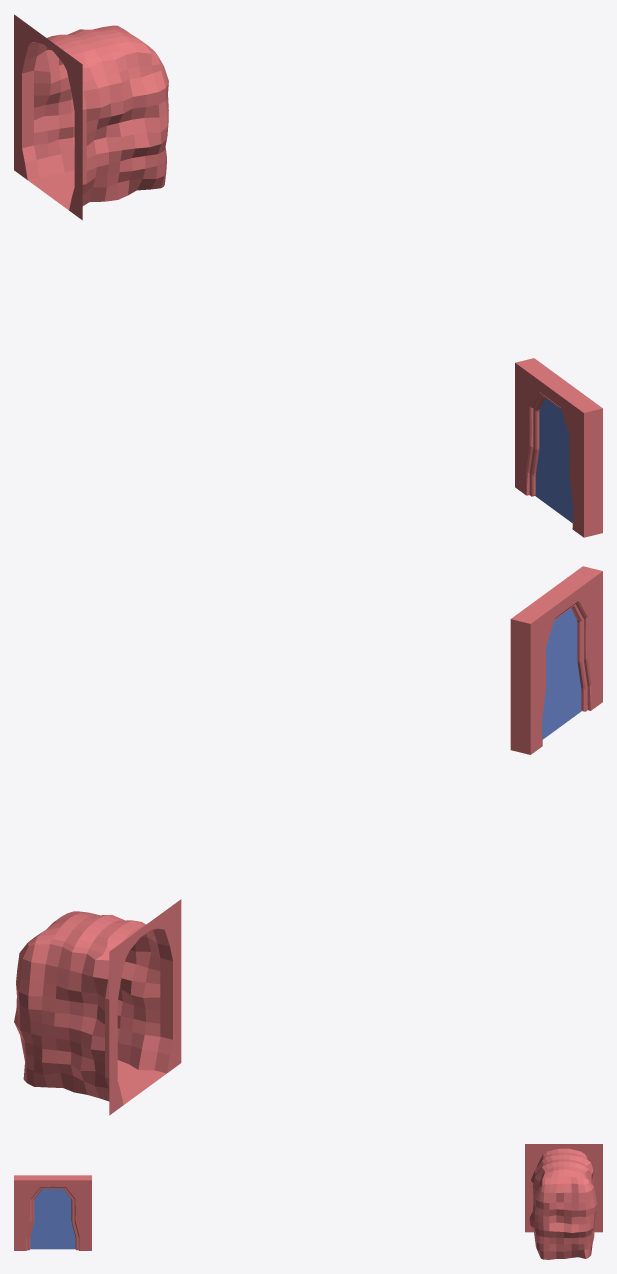
File: Portas.fbx
The picture shows the model from 3 angles, top to bottom: view 1: azimuth 30°, elevation 25°; view 2: azimuth 150°, elevation 25°; view 3: azimuth 270°, elevation 25°; orthographic projection. The views are drawn at different scales.
Parts seen in each view (by area): view 1: CaveTileDeadEnd, AncientDoorFrame, AncientDoor; view 2: CaveTileDeadEnd, AncientDoorFrame, AncientDoor; view 3: CaveTileDeadEnd, AncientDoorFrame, AncientDoor.
Boxes of the visible parts, x1=… form: CaveTileDeadEnd: x1=14, y1=14, x2=168, y2=220; AncientDoorFrame: x1=515, y1=358, x2=602, y2=537; AncientDoor: x1=535, y1=398, x2=572, y2=522; CaveTileDeadEnd: x1=14, y1=899, x2=181, y2=1115; AncientDoorFrame: x1=510, y1=566, x2=602, y2=754; AncientDoor: x1=542, y1=608, x2=581, y2=739; CaveTileDeadEnd: x1=525, y1=1144, x2=602, y2=1259; AncientDoorFrame: x1=14, y1=1175, x2=91, y2=1250; AncientDoor: x1=30, y1=1189, x2=75, y2=1249.
Bounding box in the file's own units: 371 × 501 × 3023.
